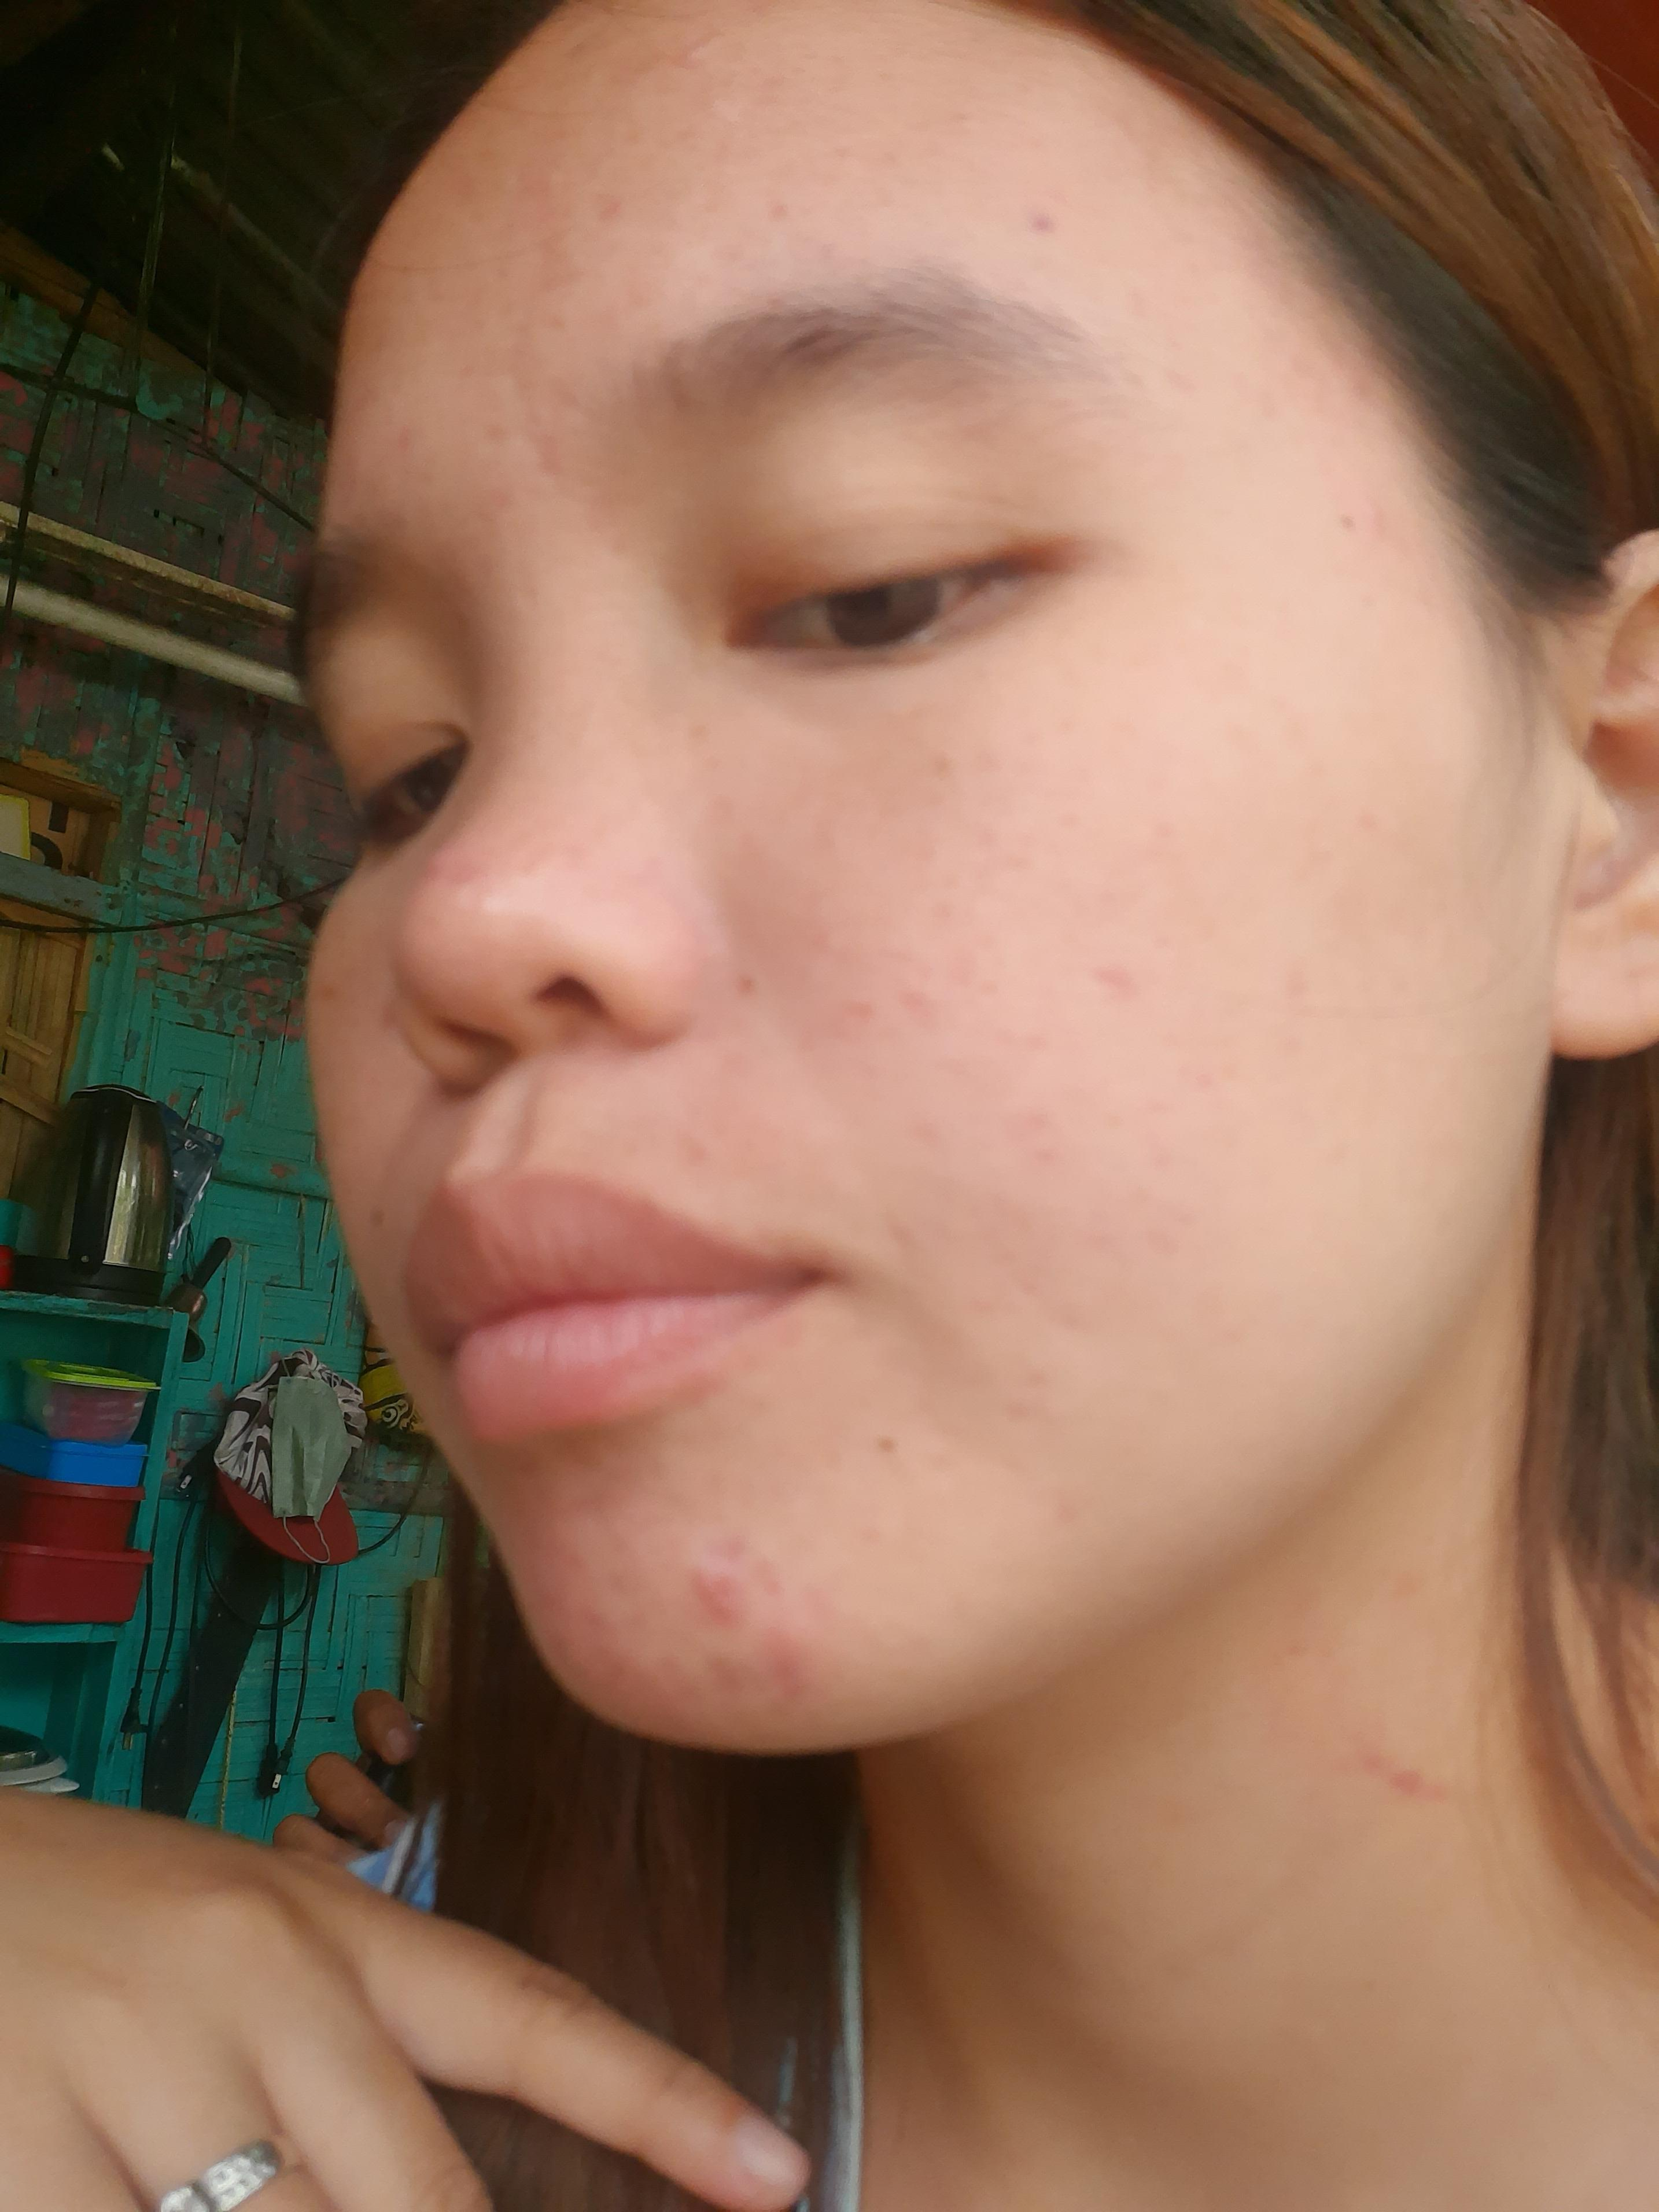Acne: (678, 1522, 838, 1709), (1096, 1047, 1225, 1266), (528, 1505, 674, 1693), (828, 948, 992, 1035), (498, 167, 582, 294), (1006, 1085, 1056, 1184), (471, 469, 516, 573), (519, 319, 592, 381), (993, 1360, 1056, 1430), (422, 846, 484, 894), (1075, 954, 1134, 1003), (532, 415, 561, 486), (1053, 1484, 1091, 1534), (1019, 207, 1067, 242), (619, 277, 652, 319), (594, 190, 627, 230), (387, 416, 420, 455), (479, 416, 514, 449), (310, 970, 340, 1005), (765, 202, 796, 225)
